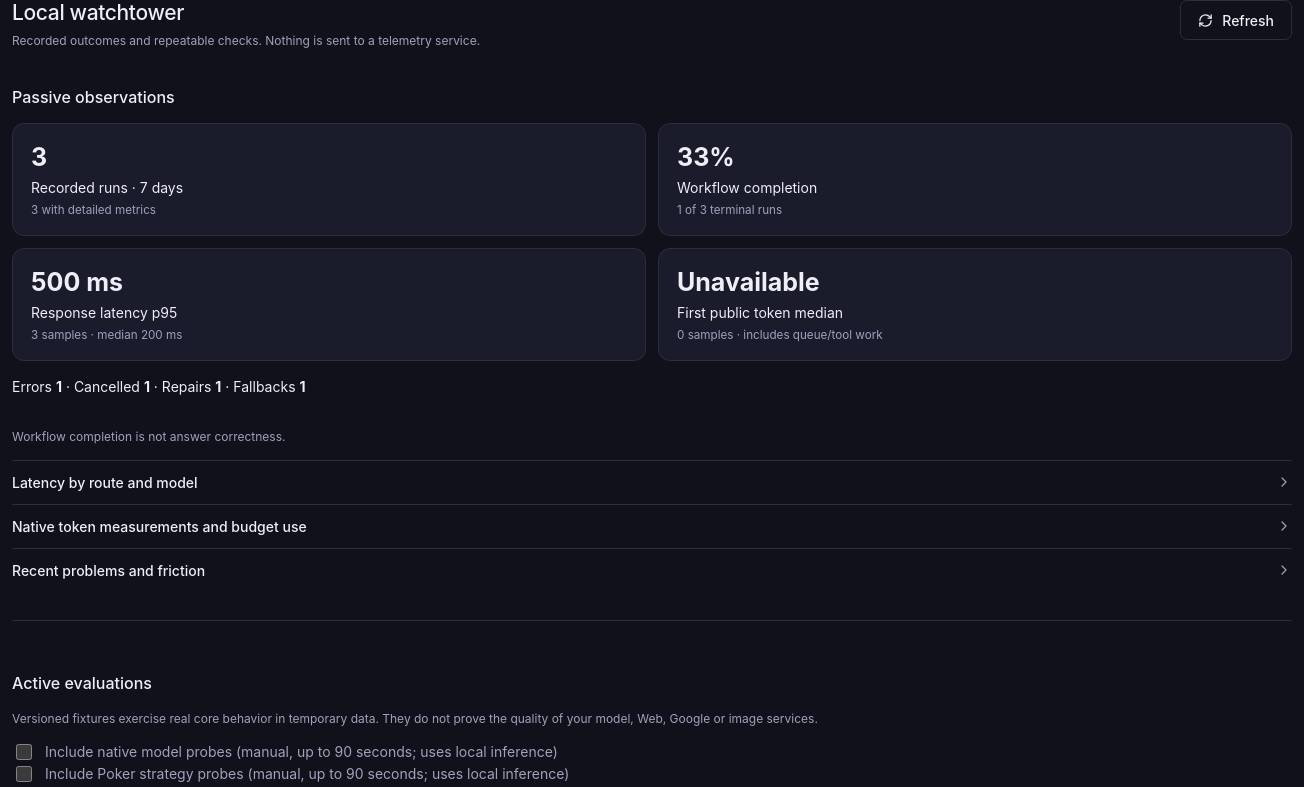
Test: local watchtower › keeps chat limits out of Poker budgets with recorded ceiling 180
The image size is (1304, 787).
Expected: the text "Recorded runs · 7 days" is shown, left=31, top=179, right=183, bottom=196
Step 1. Click the button "Native token measurements and budget use" → coordinates (159, 526), box left=12, top=518, right=1292, bottom=535
(page scrolled)
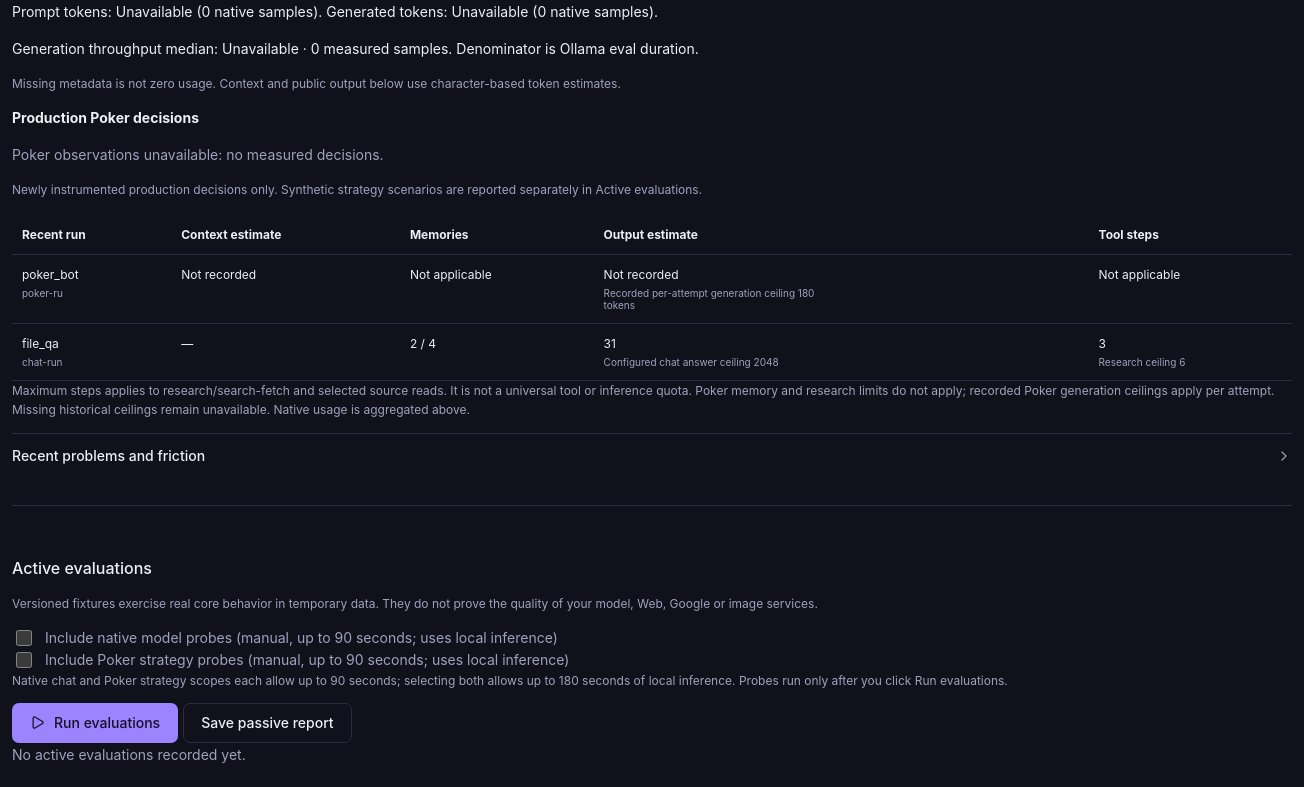
Expected: the cell "Not recorded" is shown, left=171, top=254, right=400, bottom=323
Expected: the 1st cell "Not applicable" is shown, left=400, top=254, right=594, bottom=323
Expected: the text "Recorded per-attempt generation ceiling 180 tokens" is shown, left=594, top=254, right=1089, bottom=323
